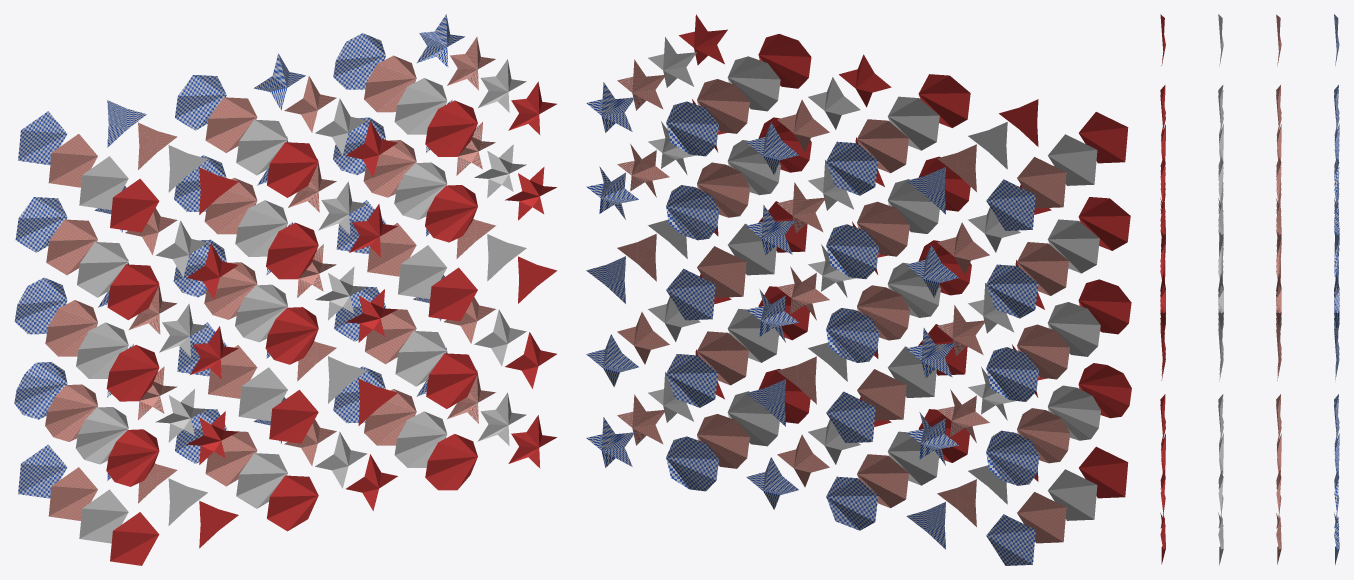
Rendered from ngons_tiling.obj.
3 views of the same model, side by side, from view 1: azimuth 30°, elevation 25°; view 2: azimuth 150°, elevation 25°; view 3: azimuth 270°, elevation 25° (orthographic). The views are drawn at different scales.
Parts seen in each view (by area): view 1: part3, part2, part1, part0; view 2: part0, part1, part2, part3; view 3: part2, part1, part3, part0.
Part boxes in pixels (<box>): part3: <box>106,81,557,565</box>; part2: <box>75,59,526,543</box>; part1: <box>45,37,495,520</box>; part0: <box>14,14,464,498</box>; part0: <box>586,82,1039,565</box>; part1: <box>617,59,1070,543</box>; part2: <box>648,37,1100,520</box>; part3: <box>679,14,1131,498</box>; part2: <box>1218,14,1223,565</box>; part1: <box>1276,14,1281,564</box>; part3: <box>1160,14,1165,564</box>; part0: <box>1334,14,1339,565</box>.
Size of the model in its own units: 16.96 by 14 by 6.2.
